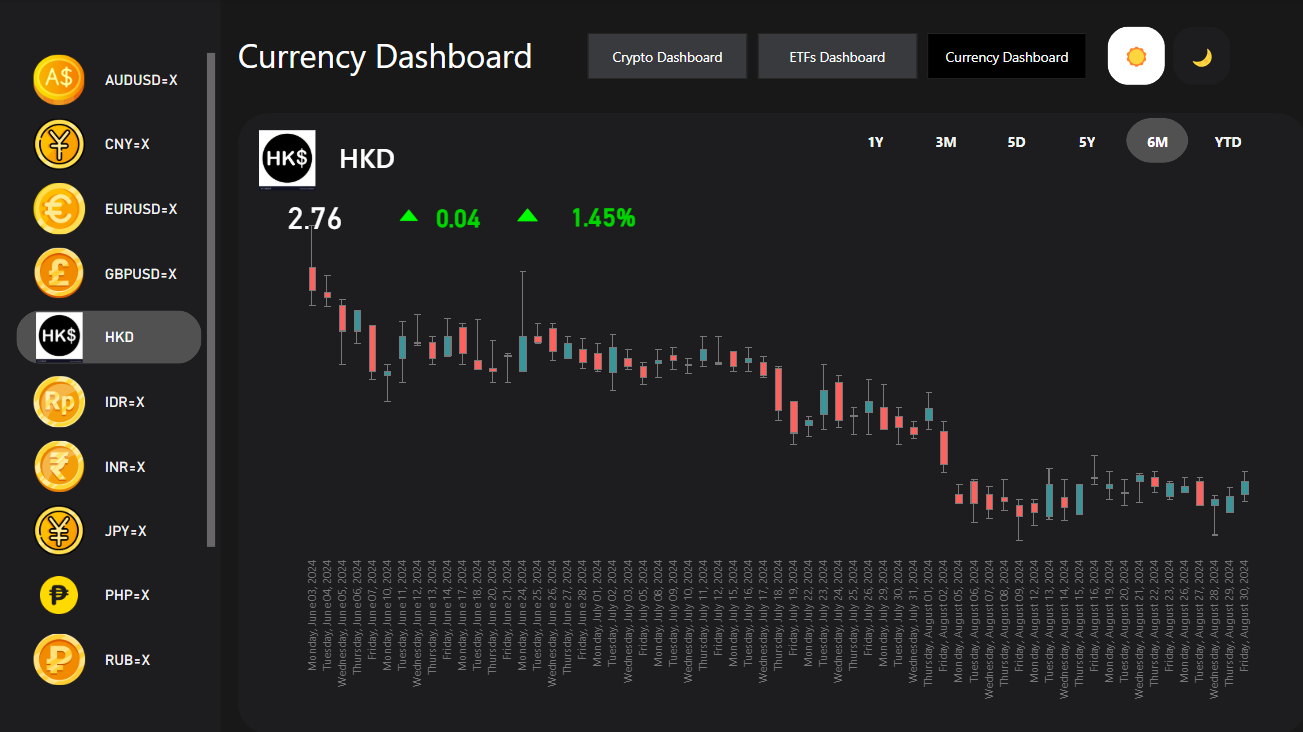

The dashboard page shown, as its layout file describes it:
{"tool":"powerbi","page":{"name":"Currency Dashboard","canvas":[1280,720],"ordinal":3},"visuals":[{"type":"shape","box":[0,0,1280.3,720.2],"z":0},{"type":"shape","box":[0,0,216.8,720.4],"z":1000},{"type":"shape","box":[233.6,112.5,1046.7,607.7],"z":2000},{"type":"PBI_CV_886A053E_9DFD_4EA0_A47D_CCAEB89AF969","fields":{"open":["Sum(Stocks Data.Open)"],"close":["Sum(Stocks Data.Close)"],"high":["Sum(Stocks Data.High)"],"low":["Sum(Stocks Data.Low)"],"Category":["Stocks Data.Date"]},"box":[233.3,186.6,1047,533.8],"z":3000},{"type":"advancedSlicerVisual","fields":{"Values":["Stocks Data.Symbol"]},"box":[12.3,49.4,204.5,635.3],"z":4000},{"type":"advancedSlicerVisual","fields":{"Values":["Stocks Data.Date Category"]},"box":[822,112.5,419.9,54.9],"z":5000},{"type":"advancedSlicerVisual","fields":{"Values":["Sheet1.Icon"]},"box":[1079.9,23.3,131.7,67.2],"z":6000},{"type":"cardVisual","fields":{"Data":["CountNonNull(Stocks Data.Logo)"]},"box":[233.3,112.5,101.5,90.6],"z":7000},{"type":"cardVisual","fields":{"Data":["Min(Stocks Data.Symbol)"]},"box":[315.6,112.5,204.5,76.8],"z":8000},{"type":"card","fields":{"Values":["Stocks Data.Open_value"]},"box":[215.4,113.9,188,199],"z":9000},{"type":"card","fields":{"Values":["Stocks Data.Open_close_diff"]},"box":[377.4,164.7,142.7,100.2],"z":10000},{"type":"card","fields":{"Values":["Stocks Data.Diff%"]},"box":[520.1,163.3,142.7,100.2],"z":11000},{"type":"cardVisual","fields":{"Data":["CountNonNull(Stocks Data.Logo)"]},"box":[370.5,178.4,65.9,72.7],"z":12000},{"type":"cardVisual","fields":{"Data":["CountNonNull(Stocks Data.Logo)"]},"box":[485.8,178.4,67.2,71.4],"z":13000},{"type":"shape","box":[233.6,8.6,836.4,92.9],"z":14000},{"type":"pageNavigator","box":[576,34.2,490.4,45.2],"z":15000}]}

Visuals, with their boxes in screenshot pixels (x1, y1, x2, y2), scaled from the page's 1280x720 canvas onto the 1303x732 screenshot:
shape: (x1=0, y1=0, x2=1302, y2=731)
shape: (x1=0, y1=0, x2=221, y2=731)
shape: (x1=238, y1=114, x2=1302, y2=731)
PBI_CV_886A053E_9DFD_4EA0_A47D_CCAEB89AF969 - Sum(Stocks Data.Open) x Sum(Stocks Data.Close): (x1=237, y1=190, x2=1302, y2=731)
advancedSlicerVisual - Stocks Data.Symbol: (x1=13, y1=50, x2=221, y2=696)
advancedSlicerVisual - Stocks Data.Date Category: (x1=837, y1=114, x2=1264, y2=170)
advancedSlicerVisual - Sheet1.Icon: (x1=1099, y1=24, x2=1233, y2=92)
cardVisual - CountNonNull(Stocks Data.Logo): (x1=237, y1=114, x2=341, y2=206)
cardVisual - Min(Stocks Data.Symbol): (x1=321, y1=114, x2=529, y2=192)
card - Stocks Data.Open_value: (x1=219, y1=116, x2=411, y2=318)
card - Stocks Data.Open_close_diff: (x1=384, y1=167, x2=529, y2=269)
card - Stocks Data.Diff%: (x1=529, y1=166, x2=675, y2=268)
cardVisual - CountNonNull(Stocks Data.Logo): (x1=377, y1=181, x2=444, y2=255)
cardVisual - CountNonNull(Stocks Data.Logo): (x1=495, y1=181, x2=563, y2=254)
shape: (x1=238, y1=9, x2=1089, y2=103)
pageNavigator: (x1=586, y1=35, x2=1086, y2=81)
